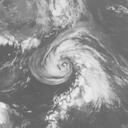cyclone: (28, 46, 74, 85)
